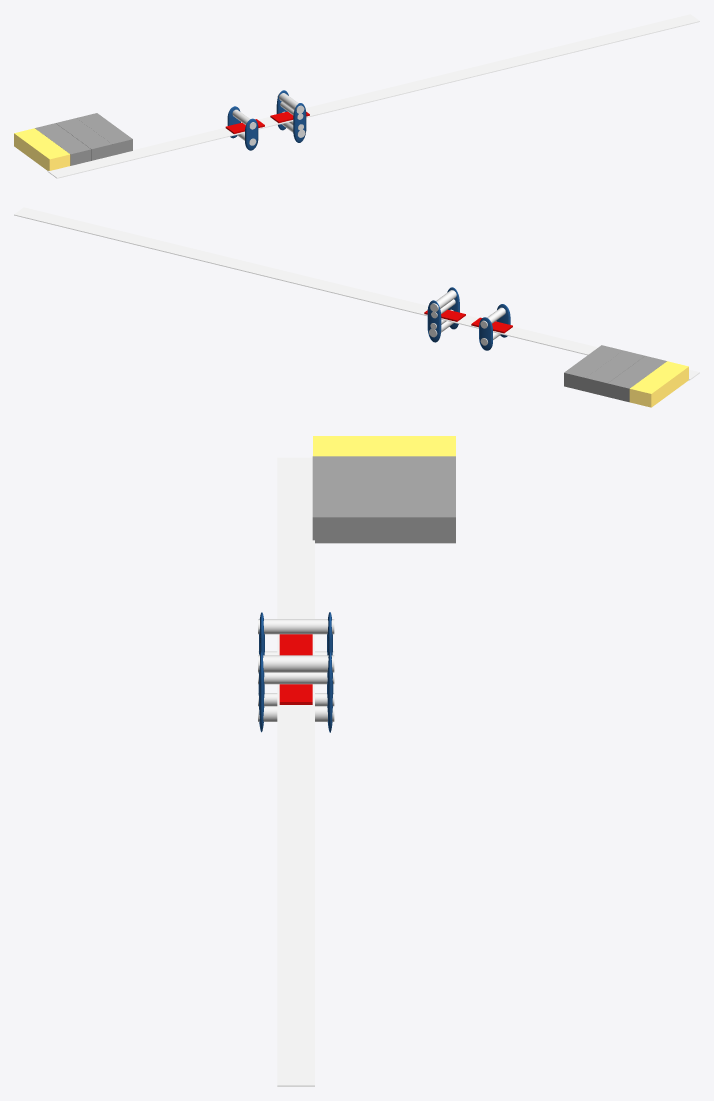
The picture shows the model from 3 angles, top to bottom: view 1: azimuth 30°, elevation 25°; view 2: azimuth 150°, elevation 25°; view 3: azimuth 270°, elevation 25°; orthographic projection. The views are drawn at different scales.
Parts seen in each view (by area): view 1: Box (×2), Furnace2, Furnace3, Furnace1, R2R, R1L; view 2: Box (×2), Furnace2, Furnace3, Furnace1, R2L, R1R; view 3: Box (×2), Furnace1, Furnace3, Furnace2, R2UpB, Cylinder.
Boxes of the visible parts, box(x1,y1,x2,y2) form: Box (×2): box(14, 14, 699, 178); Furnace2: box(56, 118, 112, 160); Furnace3: box(35, 123, 91, 165); Furnace1: box(77, 113, 132, 155); R2R: box(293, 103, 306, 142); R1L: box(245, 118, 258, 150); Box (×2): box(14, 207, 699, 407); Furnace2: box(585, 350, 644, 396); Furnace3: box(607, 356, 666, 402); Furnace1: box(564, 345, 622, 391); R2L: box(427, 300, 441, 342); R1R: box(479, 317, 492, 350); Box (×2): box(277, 436, 455, 1086); Furnace1: box(312, 497, 455, 543); Furnace3: box(312, 456, 455, 476); Furnace2: box(312, 476, 455, 496); R2UpB: box(258, 655, 334, 672); Cylinder: box(258, 619, 334, 634).
Size of the model in its own units: 15.52 by 0.9215 by 2.07.
